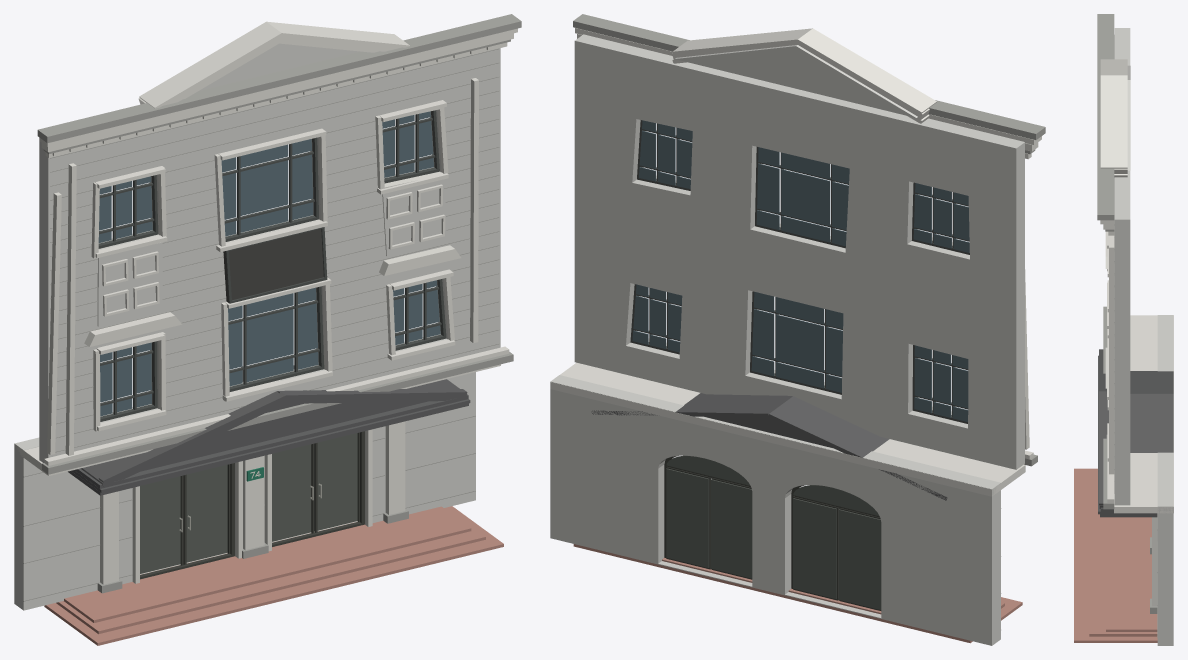
Rendered from lod-source.glb.
3 renders of one model, left to right at view 1: azimuth 30°, elevation 25°; view 2: azimuth 150°, elevation 25°; view 3: azimuth 270°, elevation 25°, orthographic. The views are drawn at different scales.
Visible parts, largest first — view 1: 泰安路74号上海市质量协会临街面; view 2: 泰安路74号上海市质量协会临街面; view 3: 泰安路74号上海市质量协会临街面.
Part boxes in pixels (x1,y1,x2,y2): 泰安路74号上海市质量协会临街面: (14, 14, 521, 645); 泰安路74号上海市质量协会临街面: (550, 14, 1045, 645); 泰安路74号上海市质量协会临街面: (1074, 14, 1173, 645).
Bounding box in the file's own units: 12.5 × 13.93 × 2.62.
